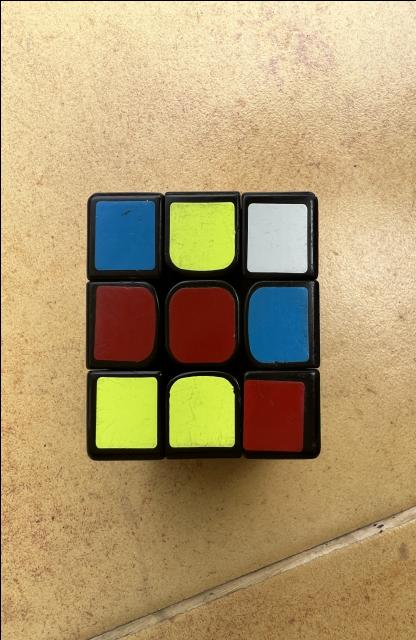Blue: (247, 286, 308, 362), (94, 200, 154, 270)
Red: (168, 286, 235, 362), (93, 285, 155, 361), (243, 379, 303, 451)
White: (246, 202, 307, 272)
Yellow: (168, 375, 234, 446), (168, 201, 234, 270), (94, 376, 156, 448)
